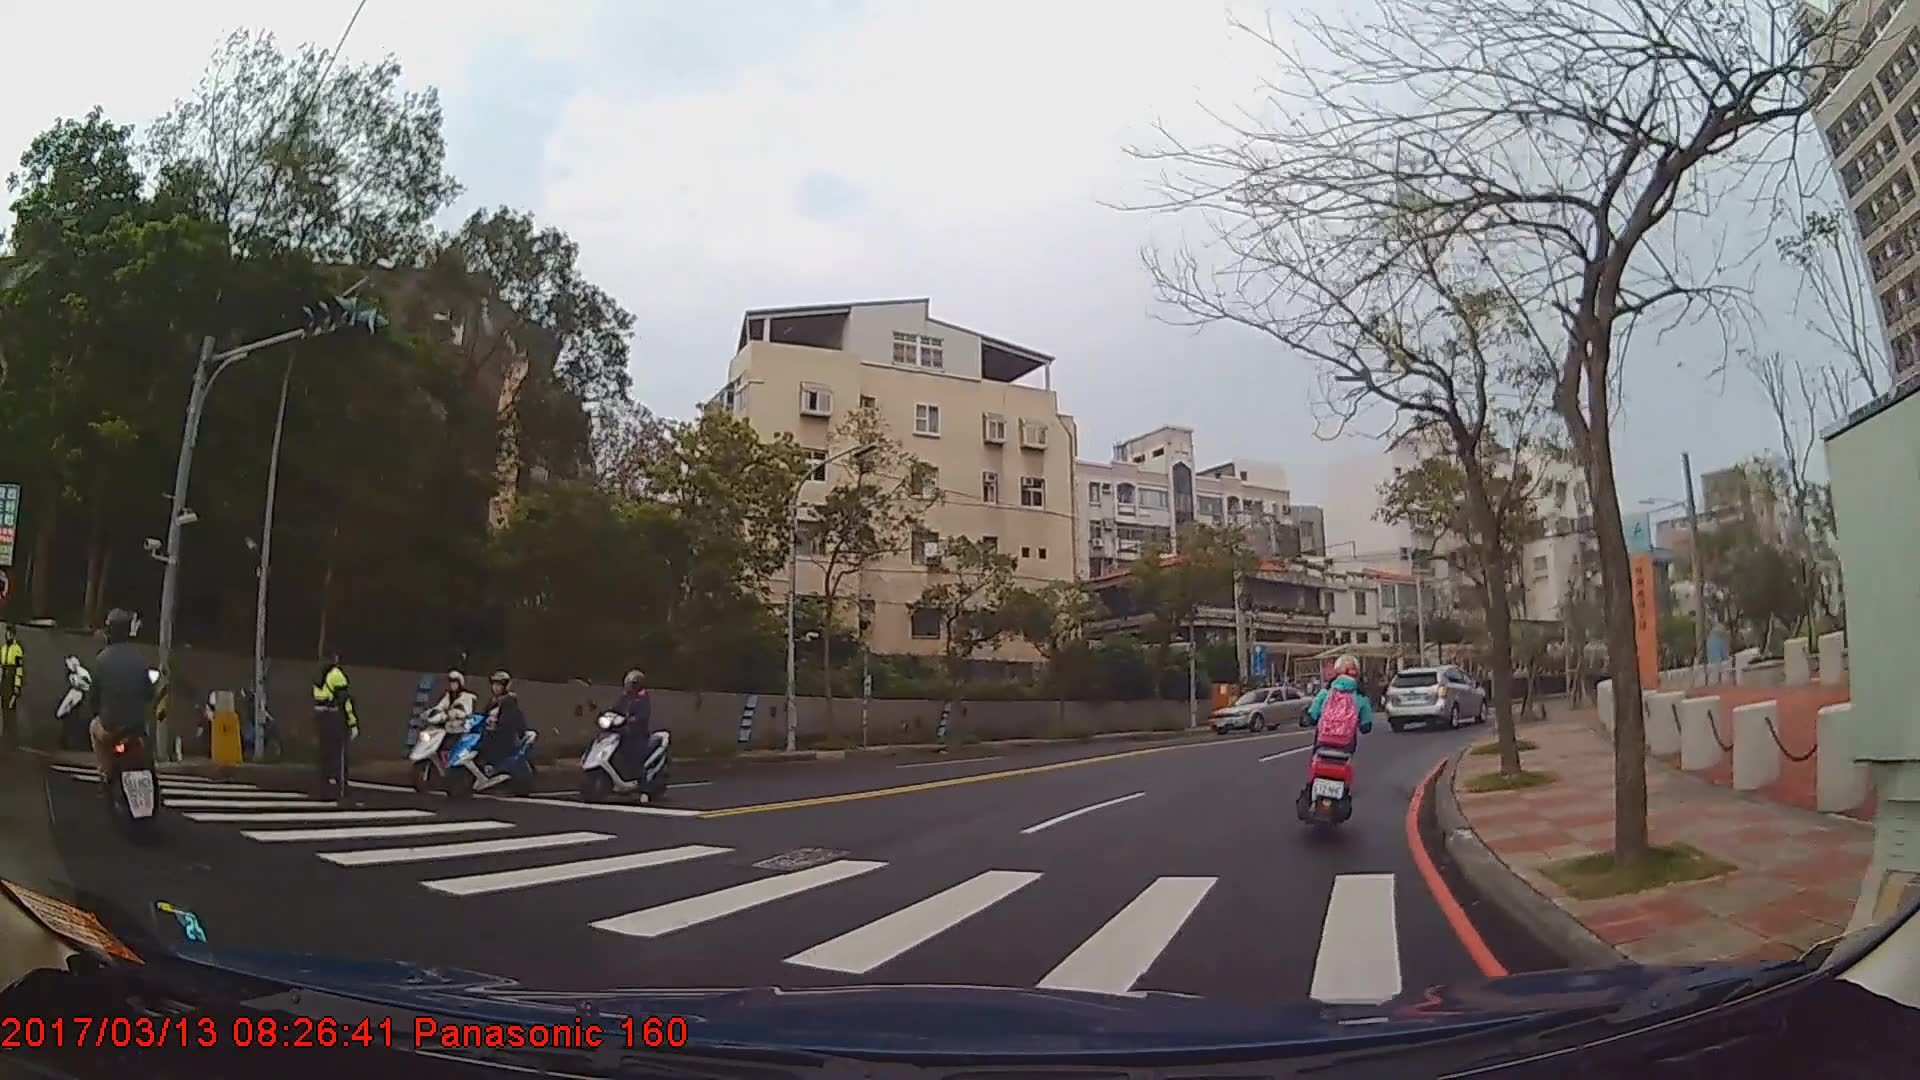pedestrian: (308, 639, 362, 800)
rider: (77, 605, 164, 836), (1299, 655, 1373, 826), (580, 671, 673, 804), (452, 668, 534, 794), (409, 667, 491, 788)
vehicle: (1379, 662, 1489, 728), (1209, 685, 1316, 736)
